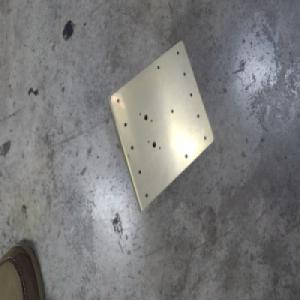MetalSheet: (106, 39, 214, 214)
